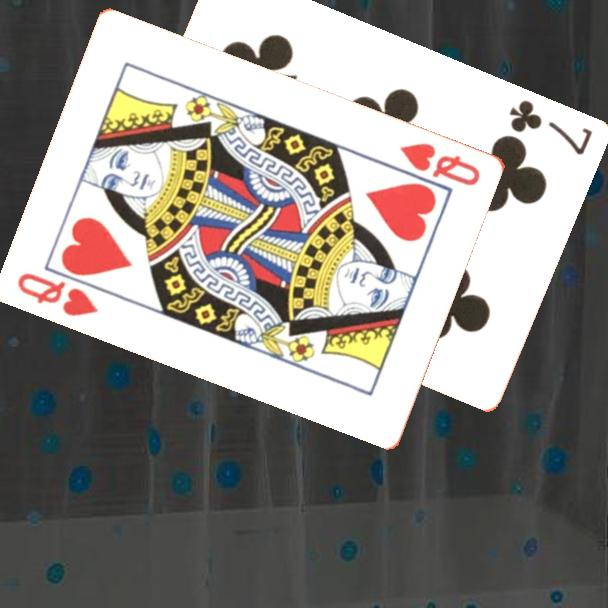c07: (505, 96, 595, 159)
h12: (396, 139, 484, 189), (14, 269, 102, 319)
